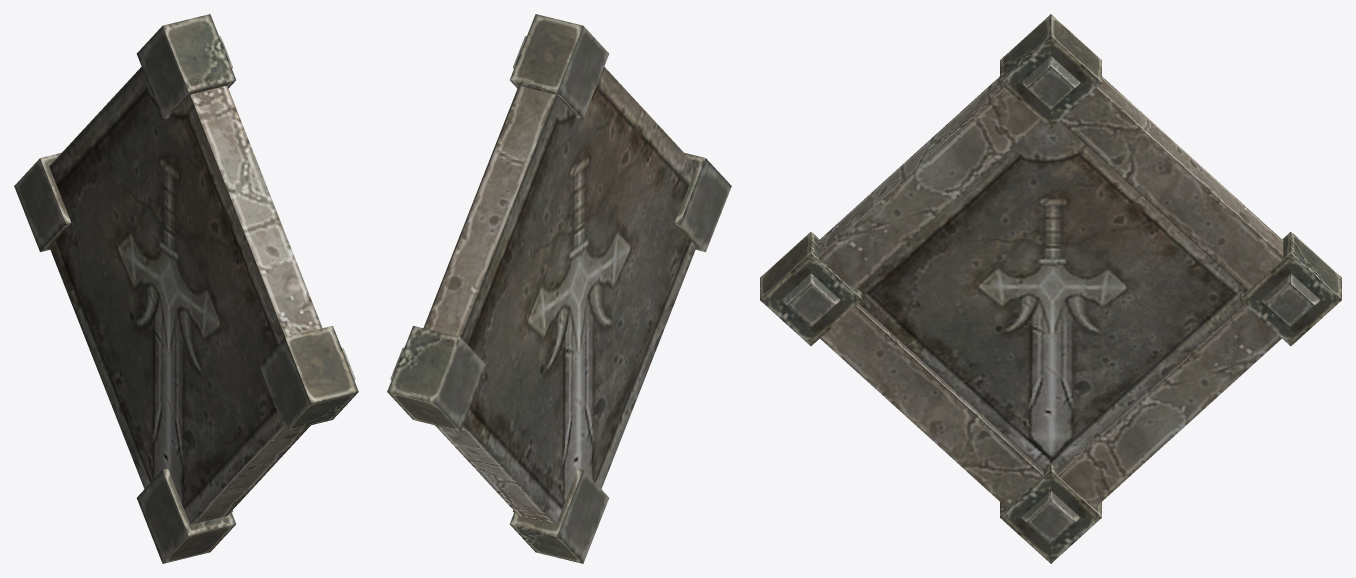
Rendered from bg_lut_lutomb_gate01f_sm_phs.FBX.
The picture shows the model from 3 angles, left to right: view 1: azimuth 30°, elevation 25°; view 2: azimuth 150°, elevation 25°; view 3: azimuth 270°, elevation 25°; orthographic projection. The views are drawn at different scales.
Visible parts, largest first — view 1: bg_lut_lutomb_gate01f_sm_phs; view 2: bg_lut_lutomb_gate01f_sm_phs; view 3: bg_lut_lutomb_gate01f_sm_phs.
Boxes of the visible parts, <box> form: bg_lut_lutomb_gate01f_sm_phs: <box>14,14,358,563</box>; bg_lut_lutomb_gate01f_sm_phs: <box>387,14,731,563</box>; bg_lut_lutomb_gate01f_sm_phs: <box>760,14,1341,563</box>.
Bounding box in the file's own units: 11.23 × 99.02 × 99.02.
